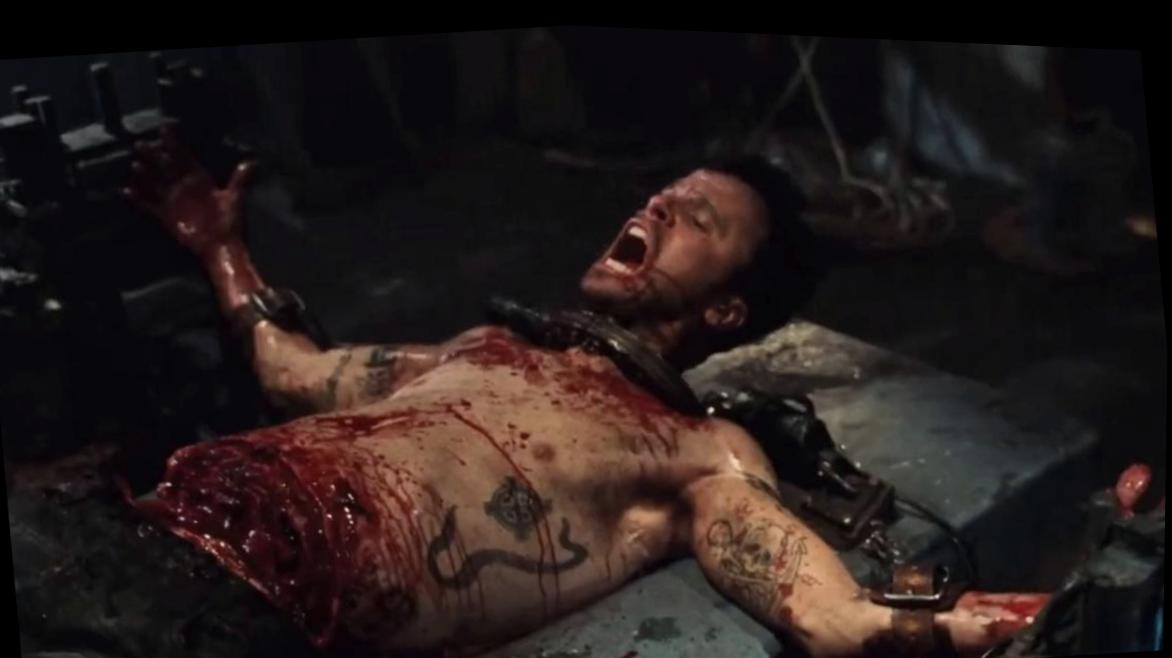Fire: (130, 135, 902, 658), (582, 161, 768, 347), (952, 582, 1054, 644), (1100, 452, 1156, 506), (463, 637, 545, 658), (1156, 489, 1167, 506)
